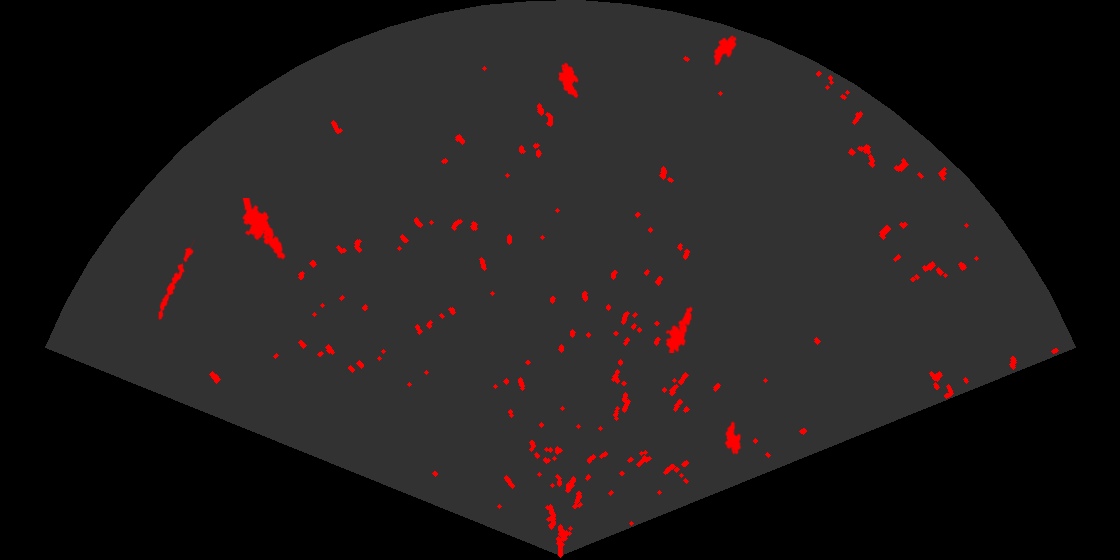AUV: (557, 61, 580, 100), (712, 34, 738, 67), (723, 420, 743, 456)
chain: (157, 239, 197, 322)
frogman: (241, 198, 287, 261), (664, 304, 694, 353)
